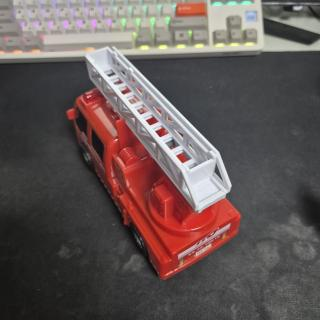Fire_truck: (67, 47, 241, 279)
